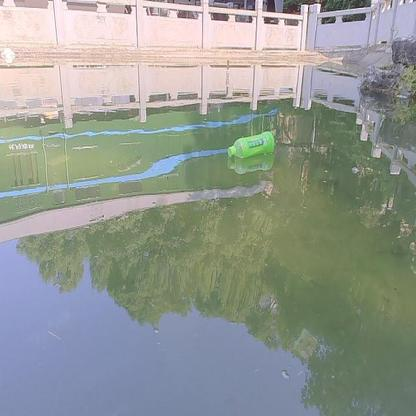plastic bottle: (228, 131, 276, 158)
